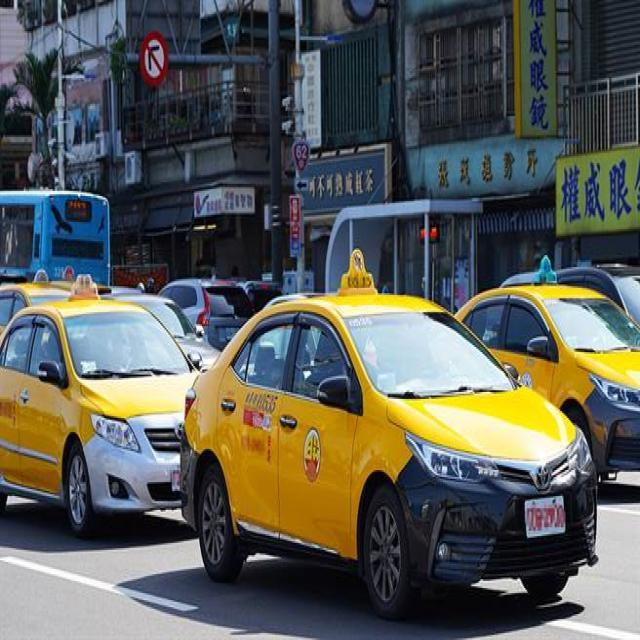taxi: (185, 228, 605, 629), (8, 294, 190, 534), (463, 254, 640, 453)
